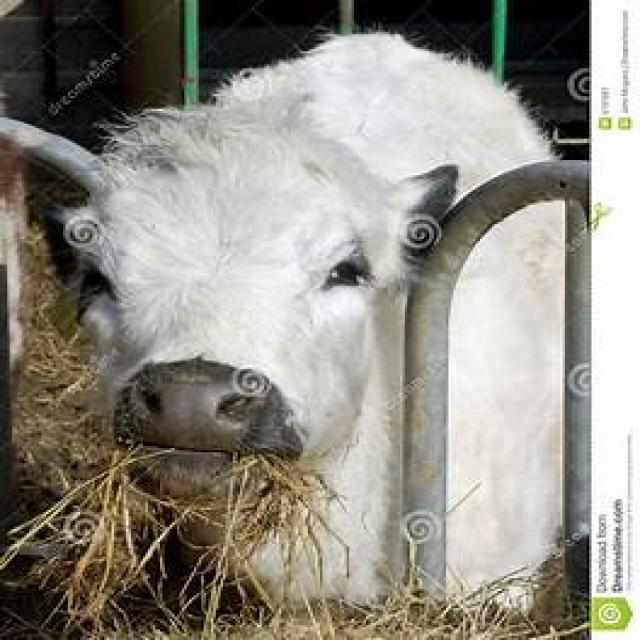cow: (5, 35, 587, 601)
